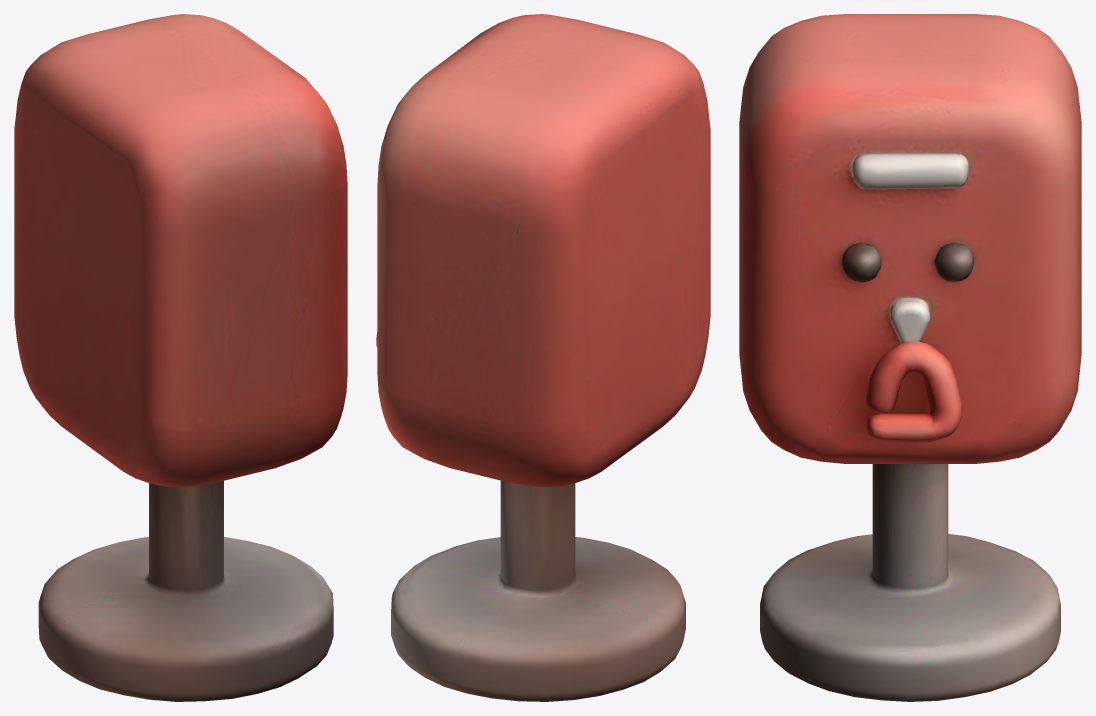
File: desk-console.glb
The picture shows the model from 3 angles, left to right: view 1: azimuth 30°, elevation 25°; view 2: azimuth 150°, elevation 25°; view 3: azimuth 270°, elevation 25°; orthographic projection.
Visible parts, largest first — view 1: tripo_node_32c1e06e-1c95-43d6-8a68-97c062de203f; view 2: tripo_node_32c1e06e-1c95-43d6-8a68-97c062de203f; view 3: tripo_node_32c1e06e-1c95-43d6-8a68-97c062de203f.
Part boxes in pixels (bbox=[...]): tripo_node_32c1e06e-1c95-43d6-8a68-97c062de203f: bbox=[14, 14, 347, 701]; tripo_node_32c1e06e-1c95-43d6-8a68-97c062de203f: bbox=[376, 14, 710, 701]; tripo_node_32c1e06e-1c95-43d6-8a68-97c062de203f: bbox=[739, 14, 1081, 701].
Bounding box in the file's own units: 0.4902 × 0.998 × 0.5215.
1 material, 1 textured.
